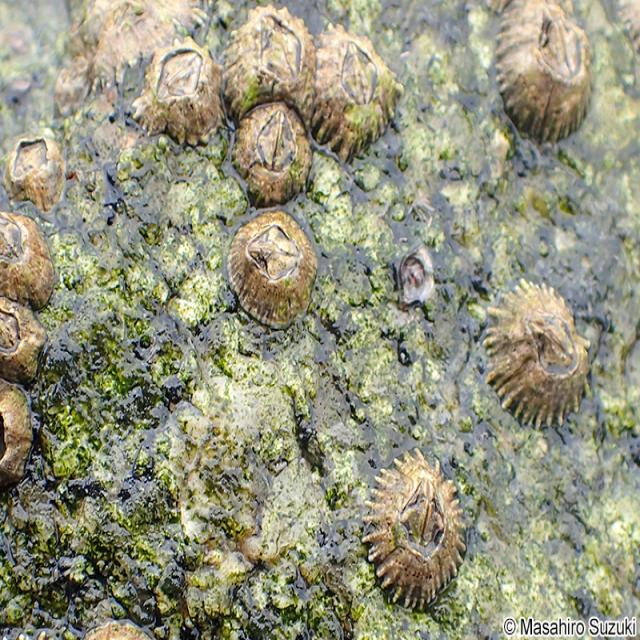barnacles: (481, 277, 594, 436), (489, 1, 602, 151), (361, 454, 466, 610), (223, 210, 320, 332), (137, 27, 224, 153), (318, 31, 400, 154), (222, 2, 318, 102), (238, 102, 316, 202), (0, 207, 59, 313), (0, 131, 65, 222), (0, 298, 48, 389)
